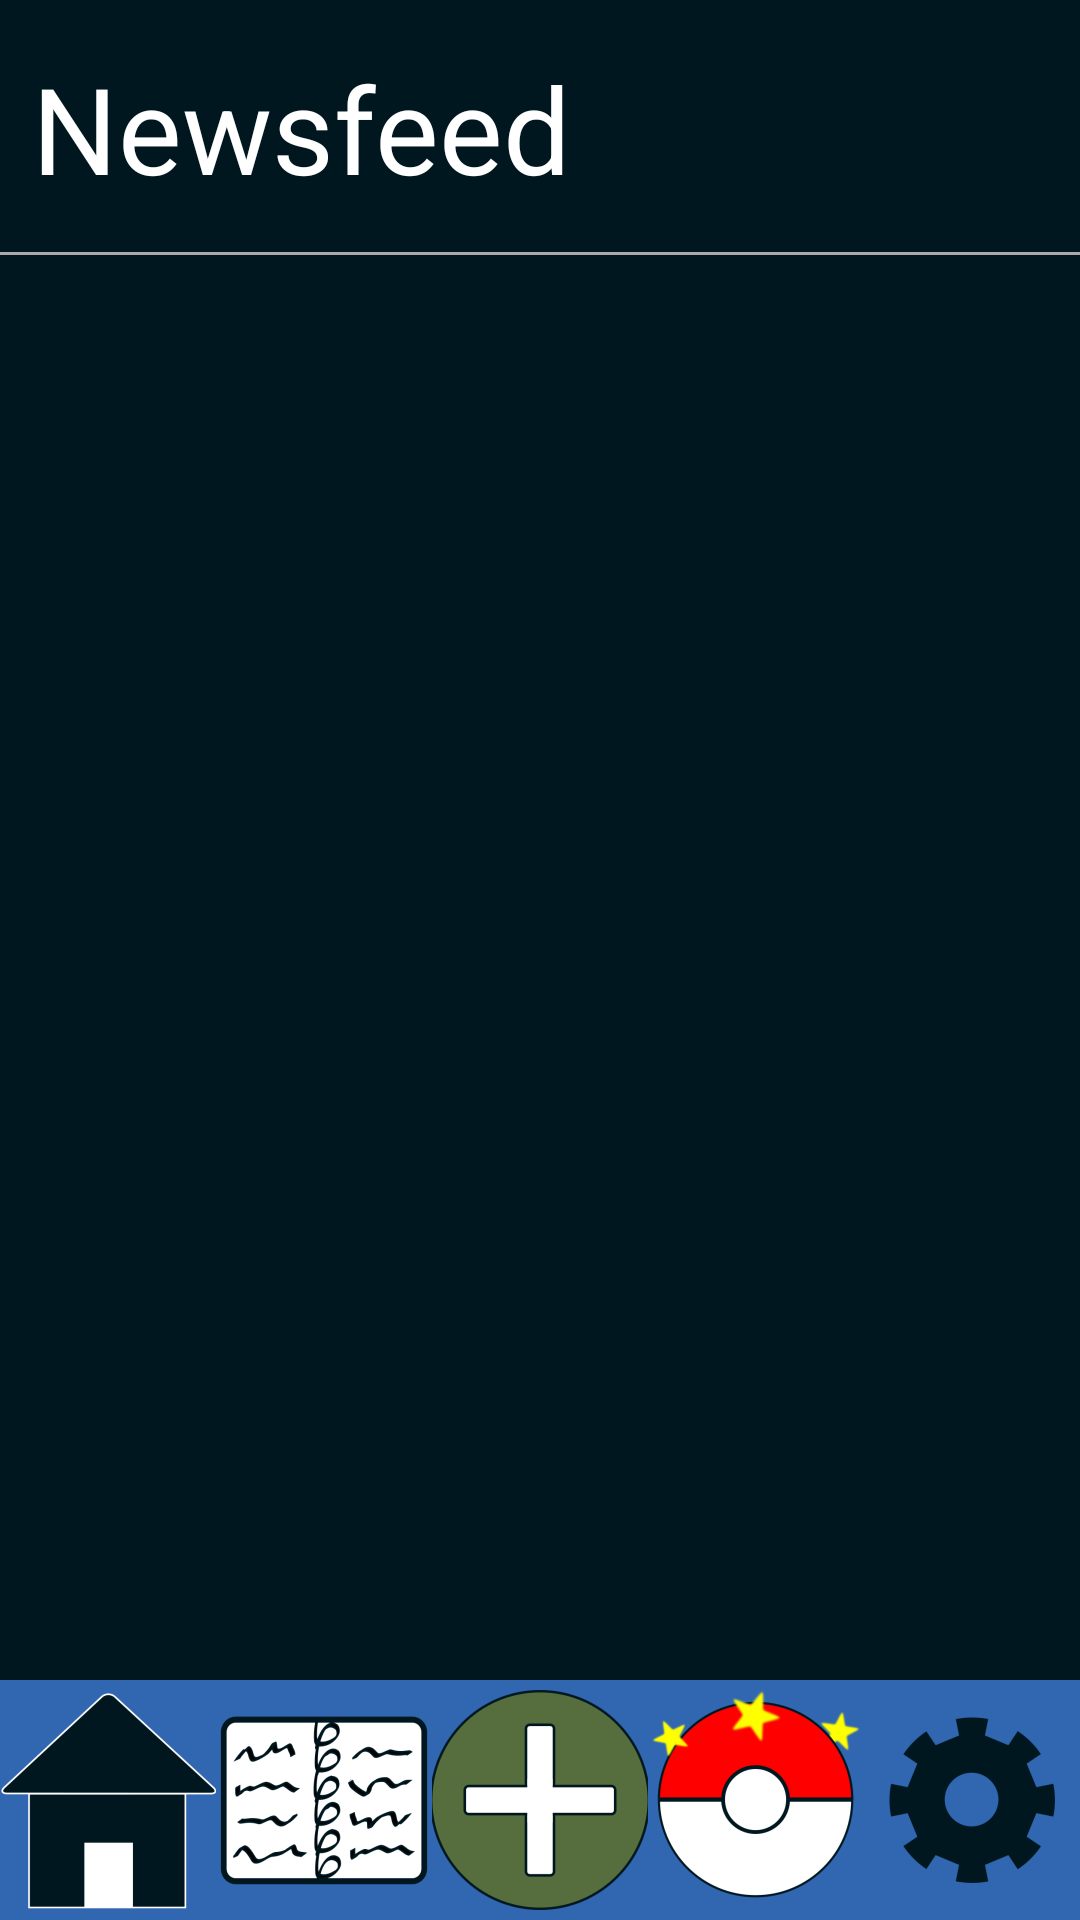

Point at icon controls on the screen. Image size 1080*1920, points as (x,y).
addpokemon: (540,1800)
home: (108,1801)
pokedex: (324,1800)
settings: (972,1800)
